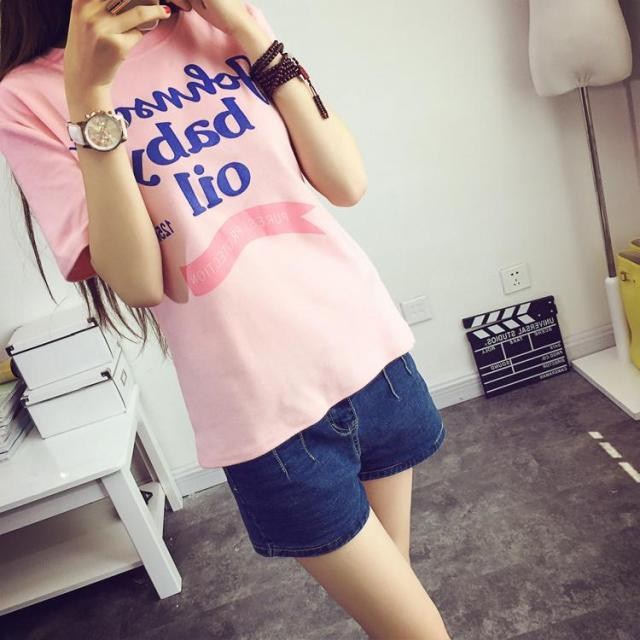short sleeve top: (4, 3, 415, 467)
shorts: (211, 314, 445, 552)
